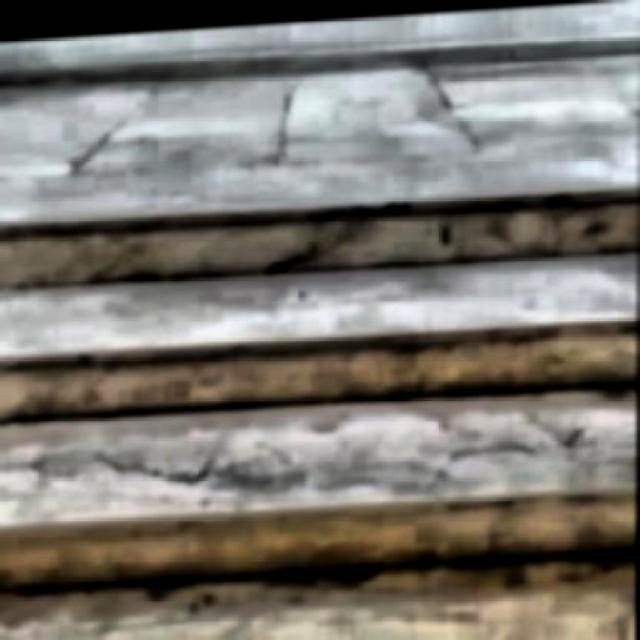stair: (2, 166, 640, 638)
